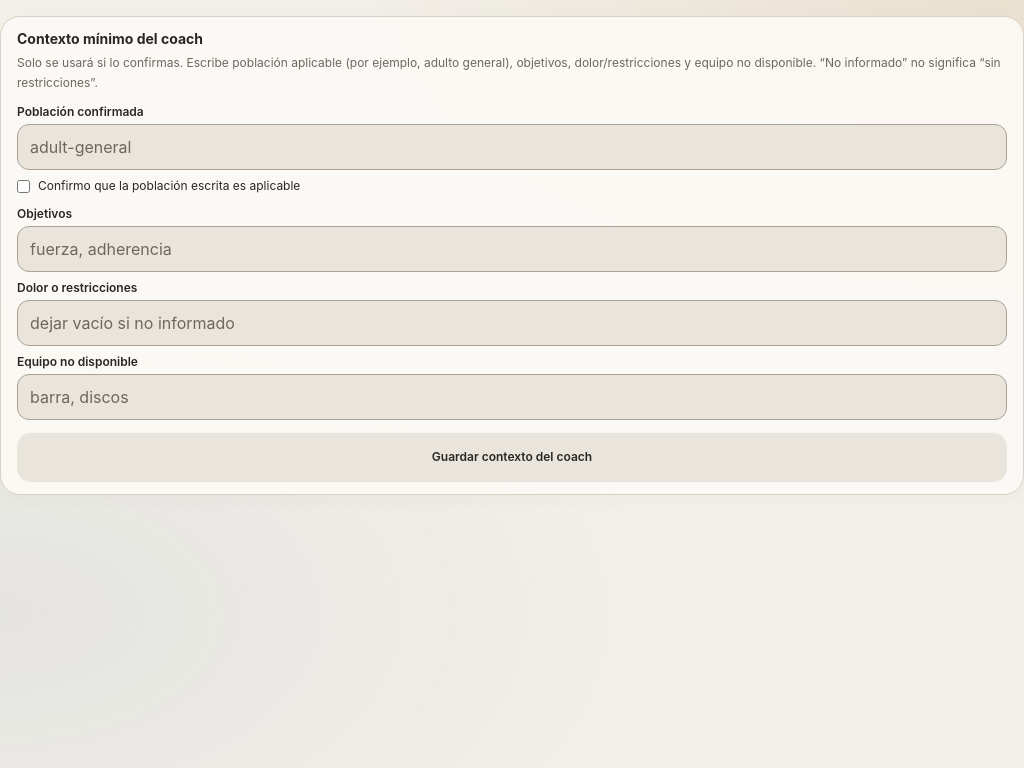
guardar contexto del coach › conserva el formulario tras un fallo y permite guardar de nuevo sin duplicar envíos
In the field labelled "Objetivos": (512, 249) [17,226,1007,272], type "fuerza"
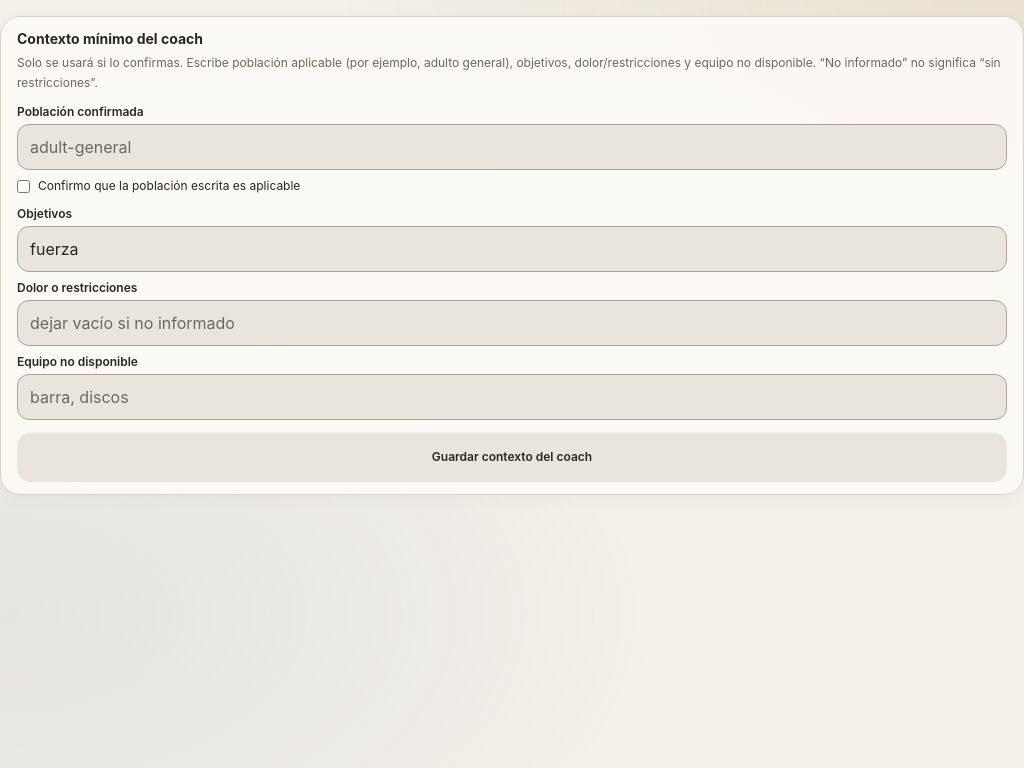
Click the button "Guardar contexto del coach": (512, 457) [17,432,1007,482]
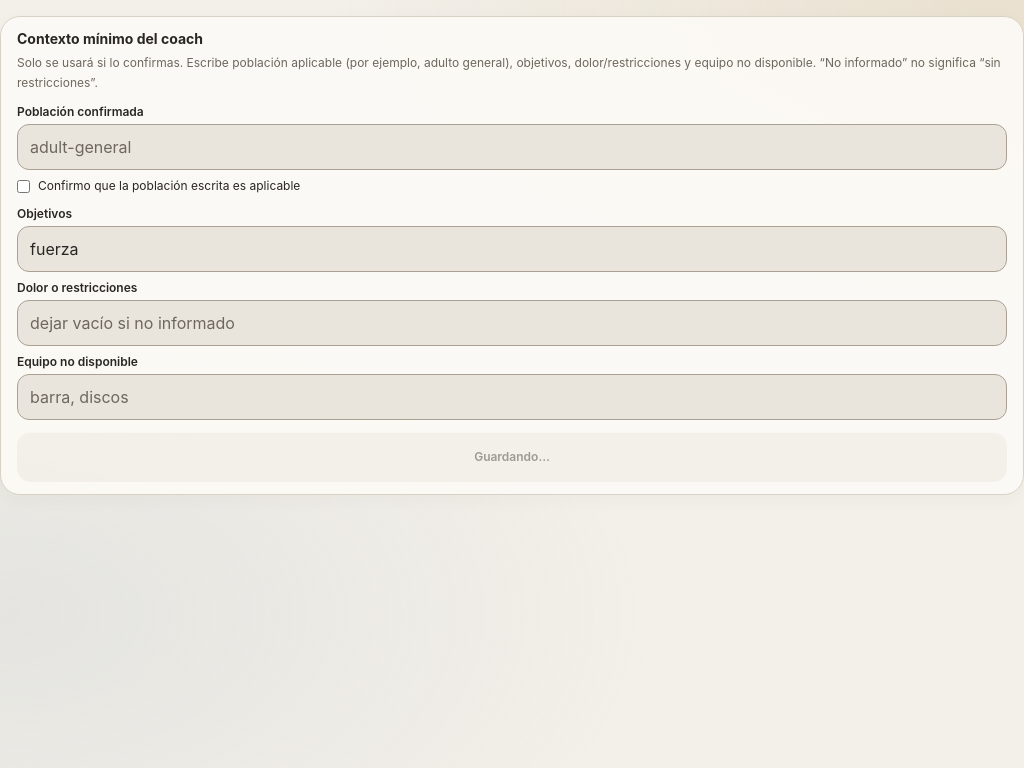
Now the button "Guardando…" is disabled
Click the button "Guardando…": (512, 457) [17,432,1007,482]
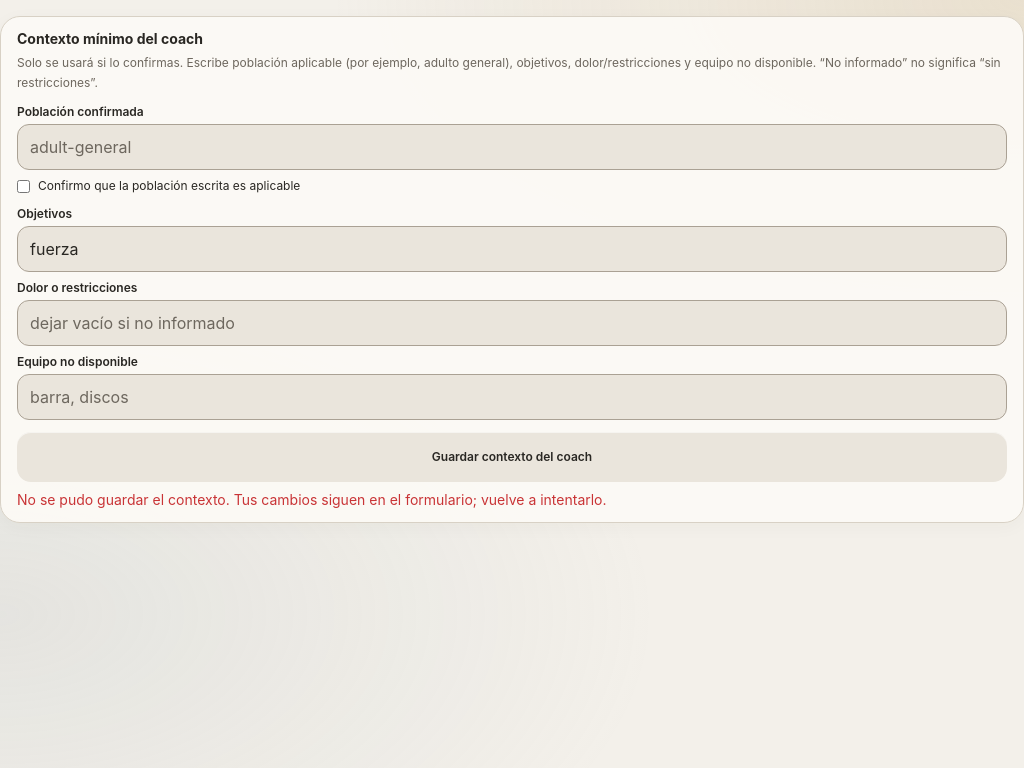
Now the message shows "Tus cambios siguen en el formulario", box [17,491,607,508]
Click the button "Guardar contexto del coach": (512, 457) [17,432,1007,482]
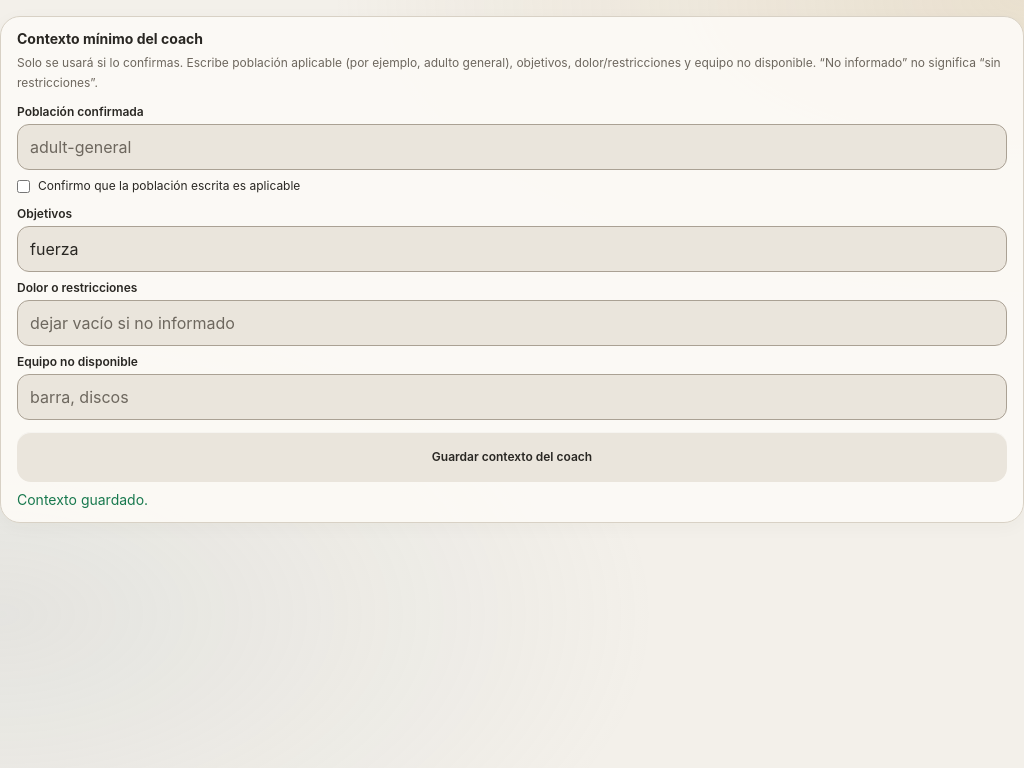
Now the message shows "Contexto guardado", box [17,491,148,508]
